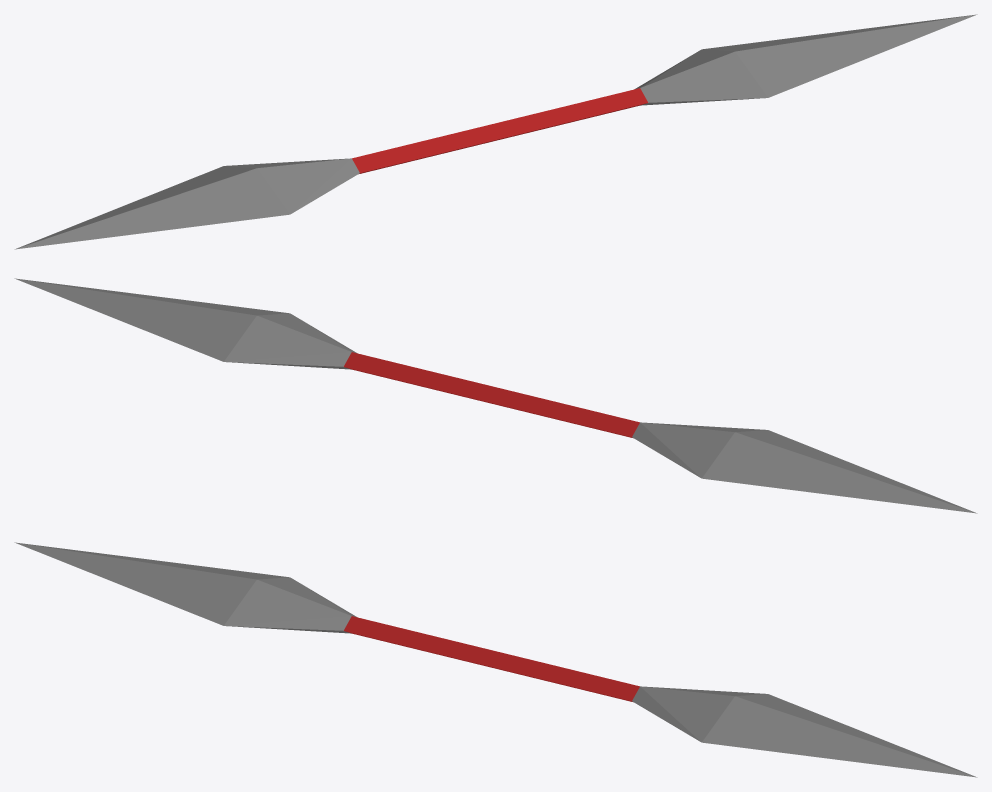
File: Asian_Prop_Weapon_Kunai_Double_01.FBX
3 renders of one model, top to bottom at view 1: azimuth 30°, elevation 25°; view 2: azimuth 150°, elevation 25°; view 3: azimuth 330°, elevation 25°, orthographic.
Parts seen in each view (by area): view 1: Asian_Prop_Weapon_Kunai_Double_01; view 2: Asian_Prop_Weapon_Kunai_Double_01; view 3: Asian_Prop_Weapon_Kunai_Double_01.
Boxes of the visible parts, x1=… form: Asian_Prop_Weapon_Kunai_Double_01: x1=14, y1=14, x2=977, y2=249; Asian_Prop_Weapon_Kunai_Double_01: x1=14, y1=278, x2=977, y2=513; Asian_Prop_Weapon_Kunai_Double_01: x1=14, y1=542, x2=977, y2=777.
Bounding box in the file's own units: 655 × 28.71 × 78.3.
